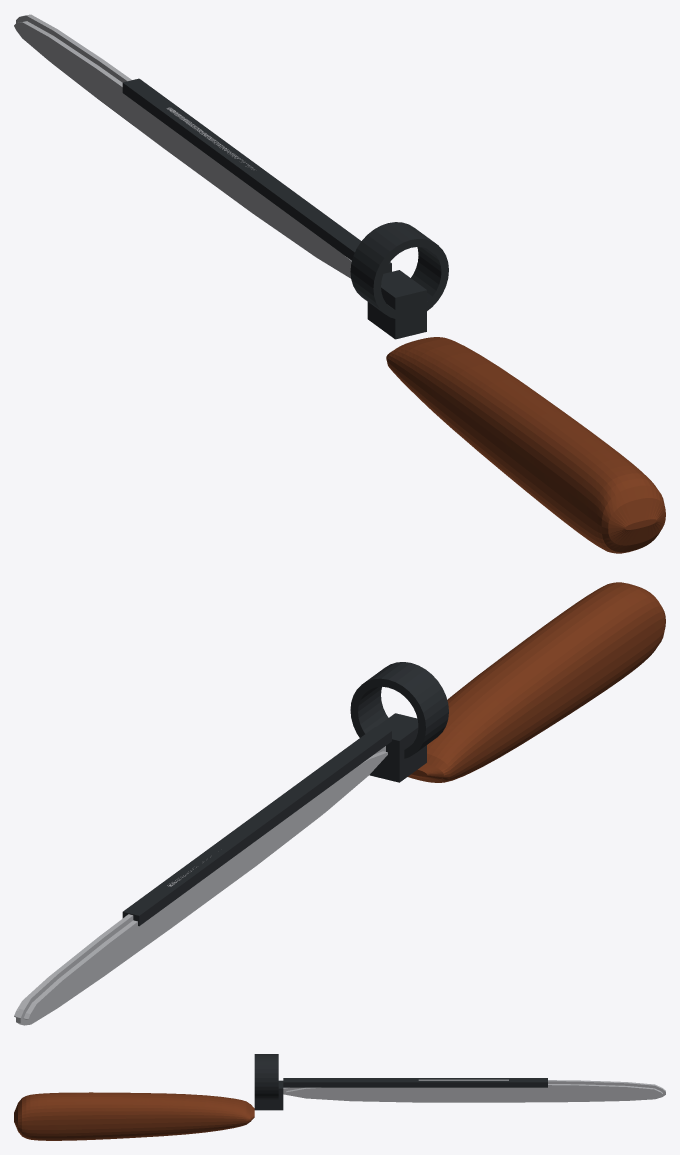
The model's file is baioneta_ak.glb.
3 views of the same model, one above another, from view 1: azimuth 30°, elevation 25°; view 2: azimuth 150°, elevation 25°; view 3: azimuth 270°, elevation 25° (orthographic). The views are drawn at different scales.
Parts seen in each view (by area): view 1: baioneta_ak_madeira_ak, baioneta_ak_aco_oxidado, baioneta_ak_aco_inox; view 2: baioneta_ak_madeira_ak, baioneta_ak_aco_oxidado, baioneta_ak_aco_inox; view 3: baioneta_ak_madeira_ak, baioneta_ak_aco_inox, baioneta_ak_aco_oxidado.
Part boxes in pixels (<box>): baioneta_ak_madeira_ak: <box>386,337,665,553</box>; baioneta_ak_aco_oxidado: <box>122,78,448,339</box>; baioneta_ak_aco_inox: <box>14,14,351,278</box>; baioneta_ak_madeira_ak: <box>408,582,665,782</box>; baioneta_ak_aco_oxidado: <box>122,662,448,926</box>; baioneta_ak_aco_inox: <box>14,746,387,1025</box>; baioneta_ak_madeira_ak: <box>14,1092,254,1140</box>; baioneta_ak_aco_inox: <box>283,1079,665,1102</box>; baioneta_ak_aco_oxidado: <box>254,1054,547,1110</box>.
Bounding box in the file's own units: 0.019 × 0.0378 × 0.271.
